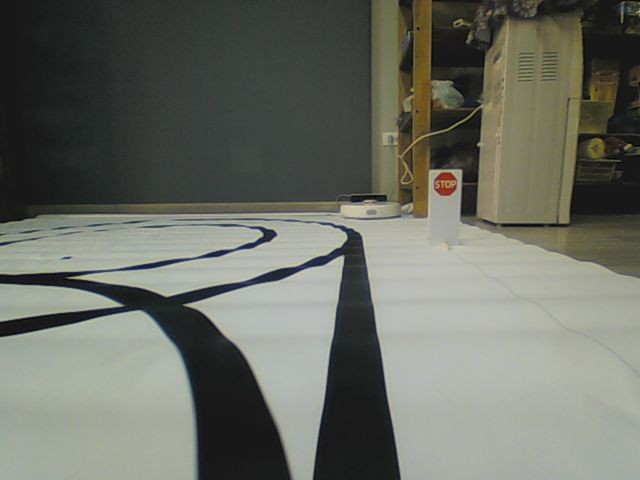Stop: (432, 171, 458, 197)
